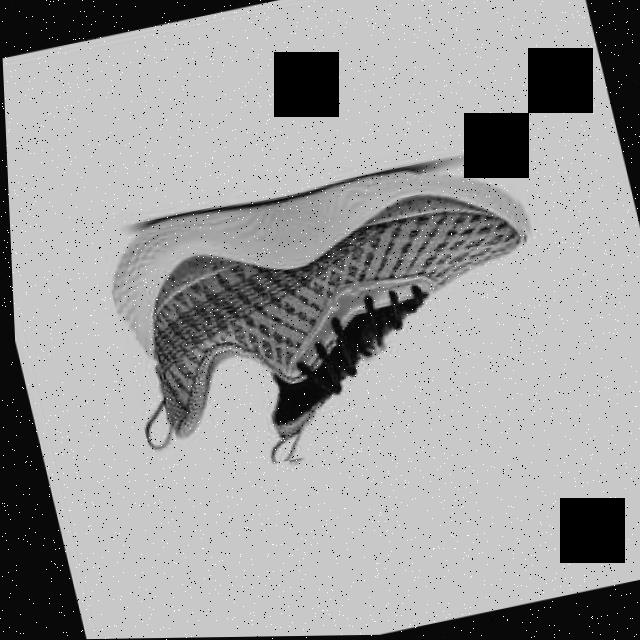shoe: (92, 146, 568, 489)
